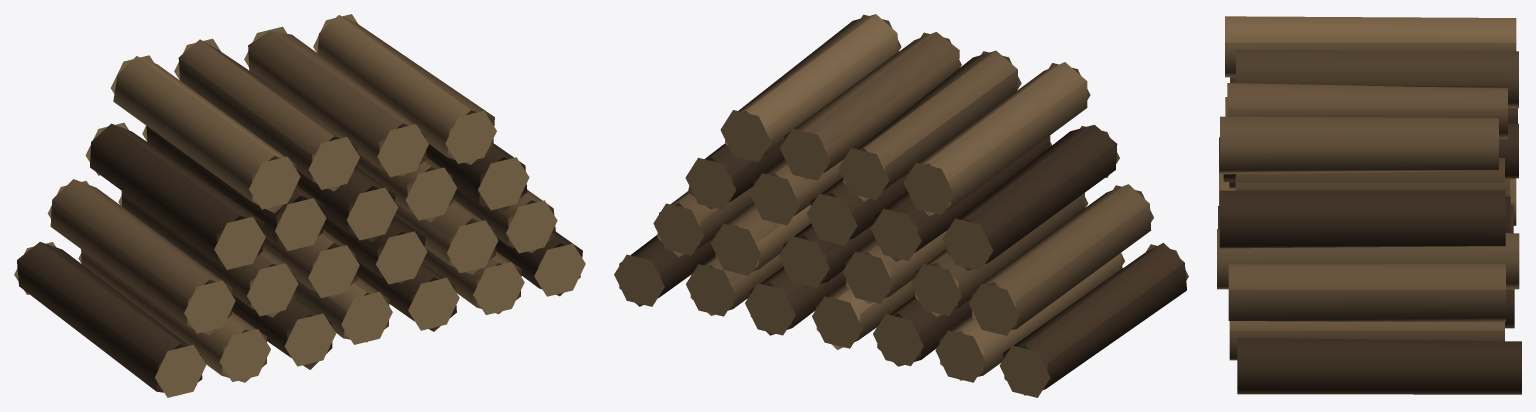
File: catasta.glb
3 renders of one model, left to right at view 1: azimuth 30°, elevation 25°; view 2: azimuth 150°, elevation 25°; view 3: azimuth 270°, elevation 25°, orthographic. The views are drawn at different scales.
Visible parts, largest first — view 1: catasta; view 2: catasta; view 3: catasta.
Part boxes in pixels (x1,y1,x2,y2): catasta: (14, 14, 585, 397); catasta: (614, 14, 1188, 397); catasta: (1217, 16, 1521, 394).
Bounding box in the file's own units: 1.7 × 0.813 × 0.9675.
